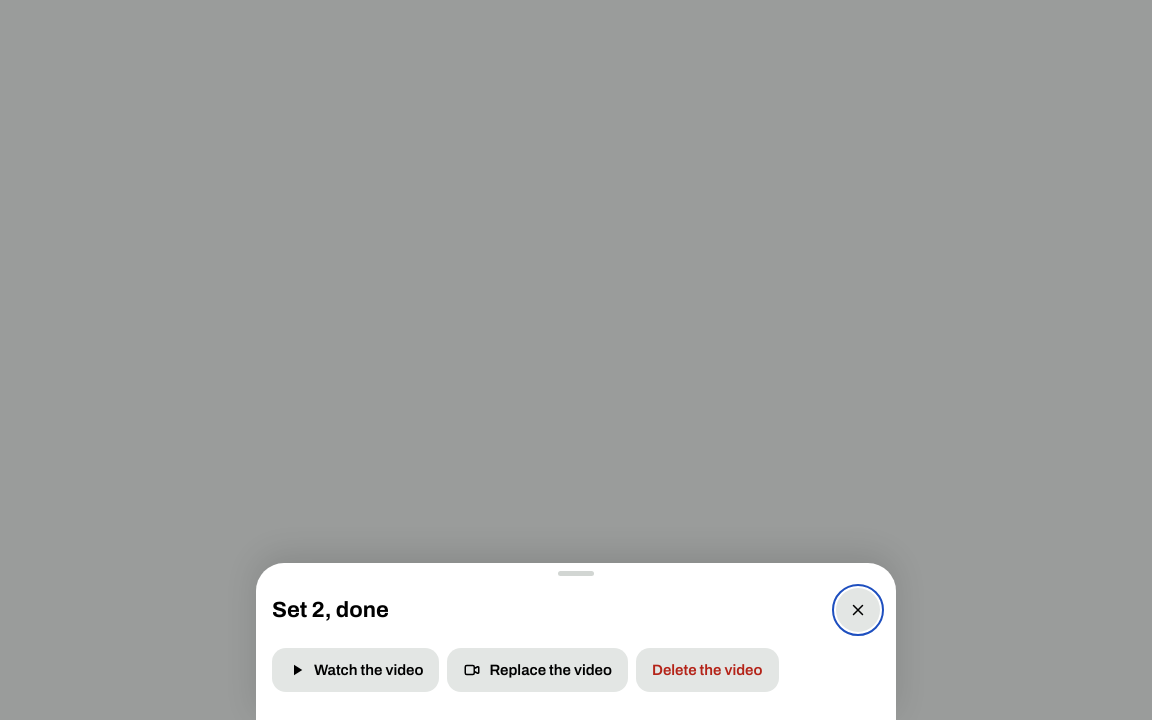
Scenario: <VideoUploadButton /> — watching the video › opened from a sheet, Escape closes the player and leaves the sheet open
Click the button "Watch the video": (356, 670) [272,648,440,692]
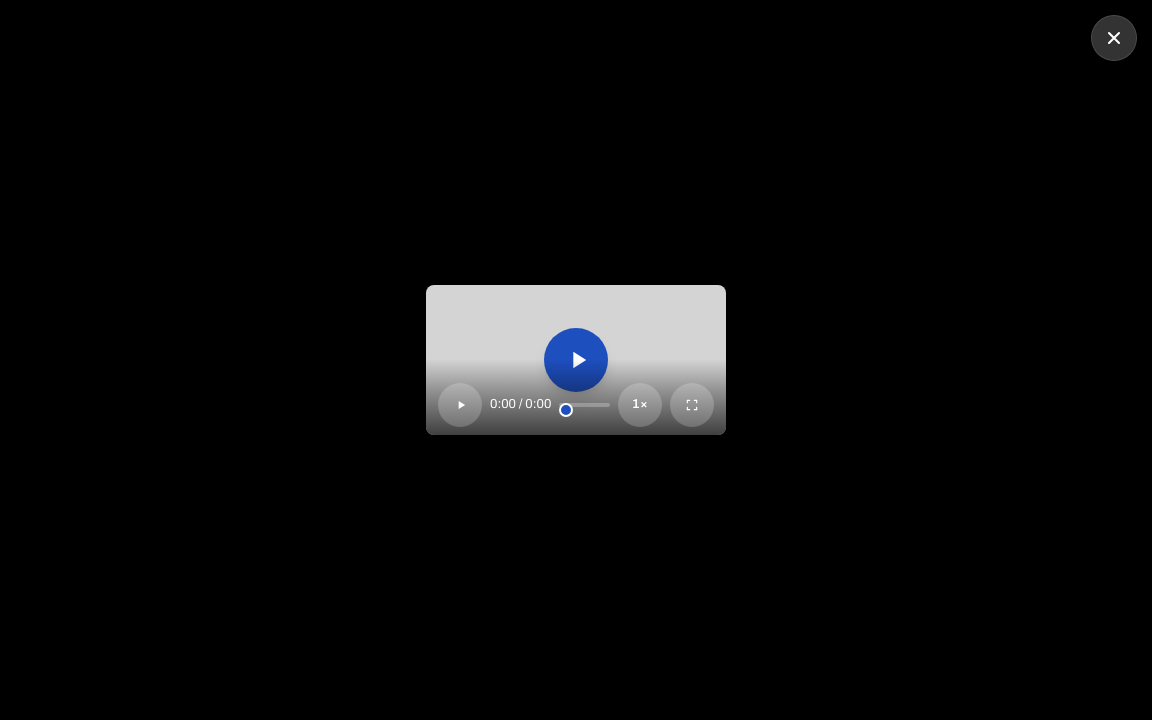
Now the dialog is shown
Press Escape
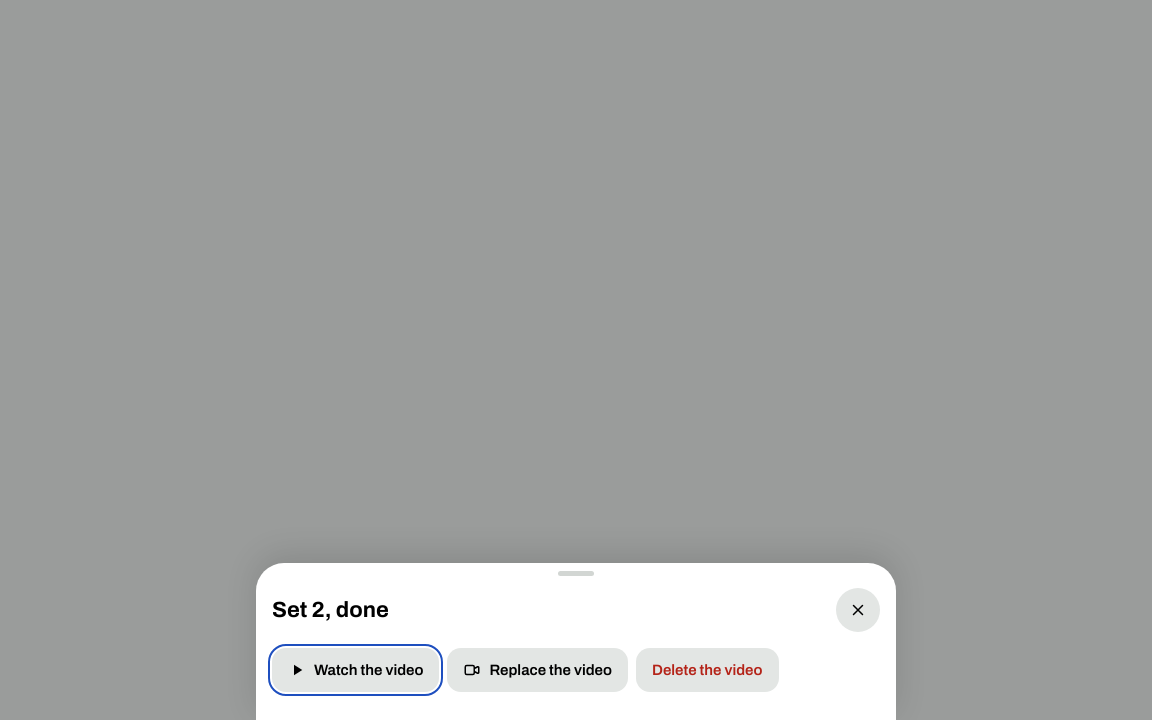
Expected: the dialog "Set 2, done" is shown, [256,563,896,719]
Now the dialog is gone
